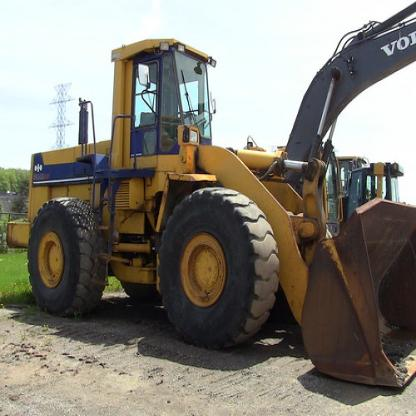bull_dozer/loader/grader: (18, 23, 415, 397)
